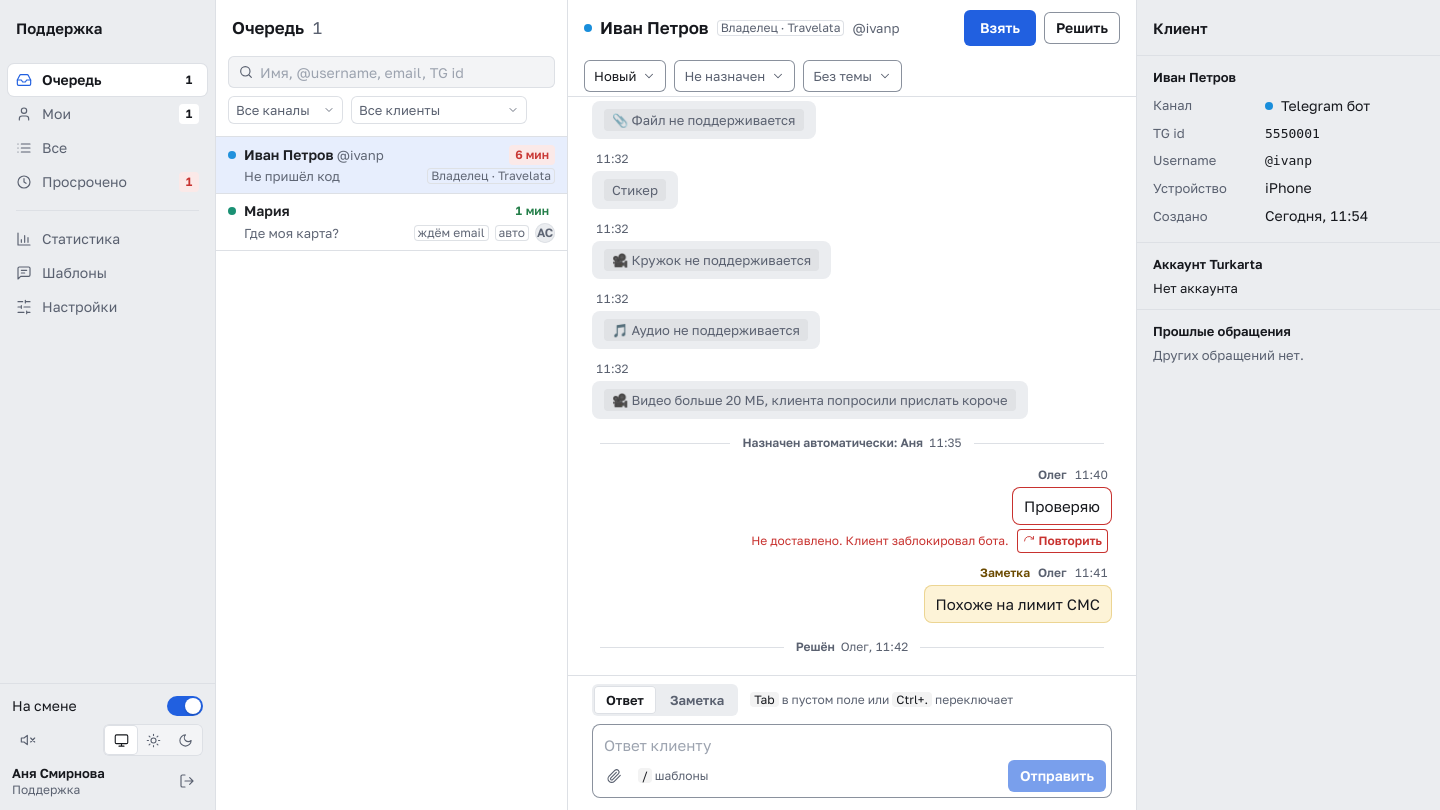
Inbox › reports a failed take-over started from the 409 toast
(page scrolled)
Click the button "Взять".
click(1000, 28)  # box [964,10,1036,46]
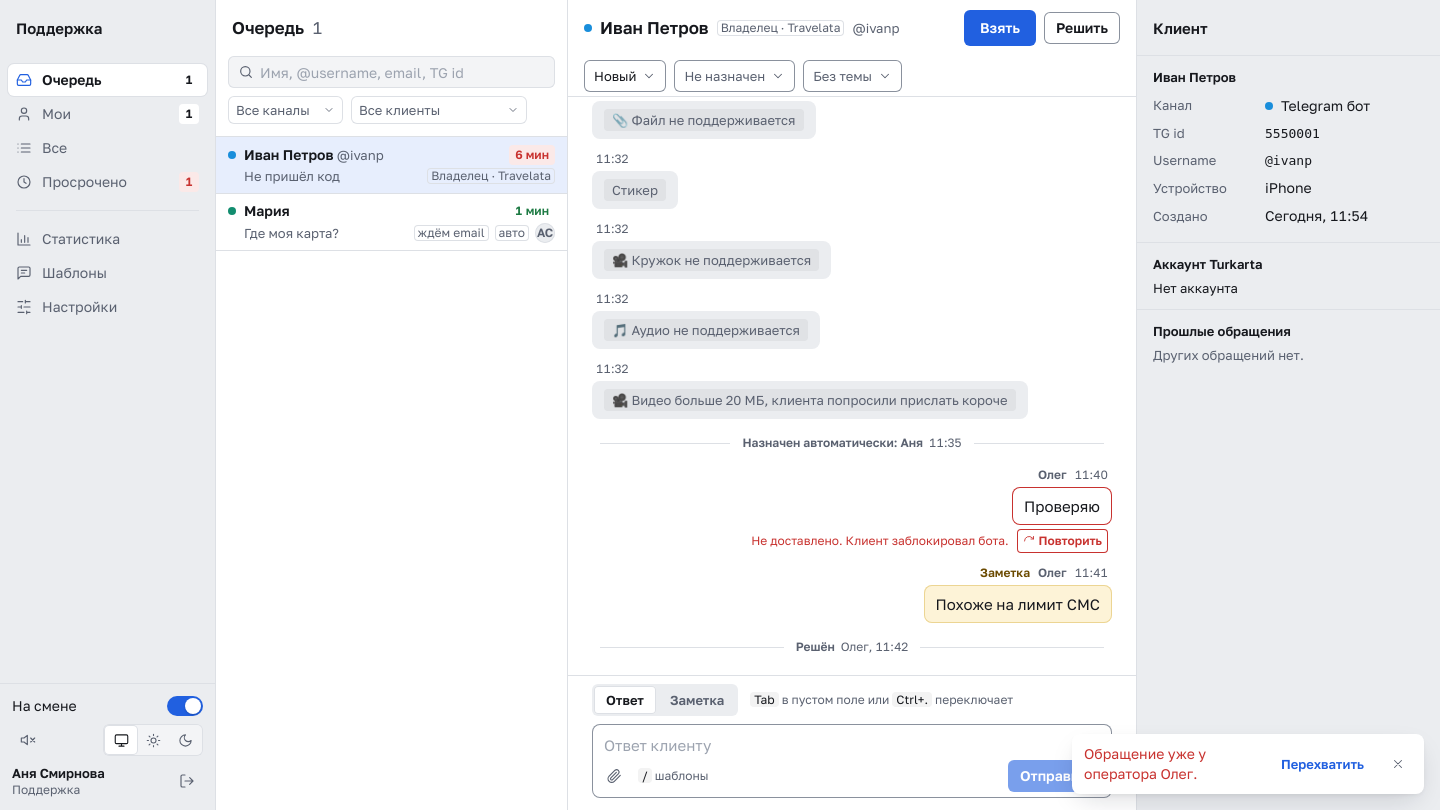
Now the text "Обращение уже у оператора Олег." is shown, box [1084,745,1206,782]
Click the button "Перехватить".
click(1323, 764)  # box [1273,750,1372,778]
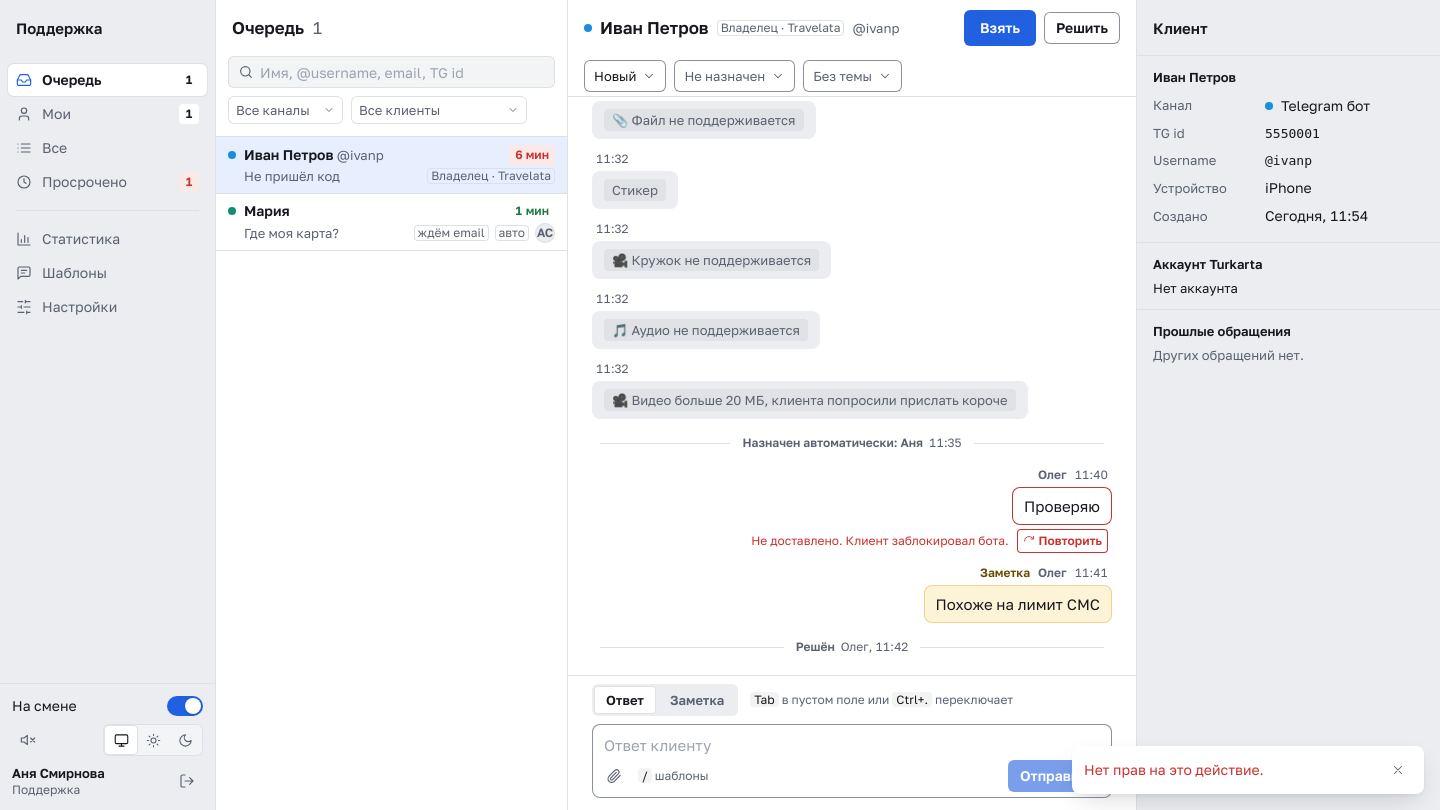
Now the text "Нет прав на это действие." is shown, box [1084,761,1264,778]
